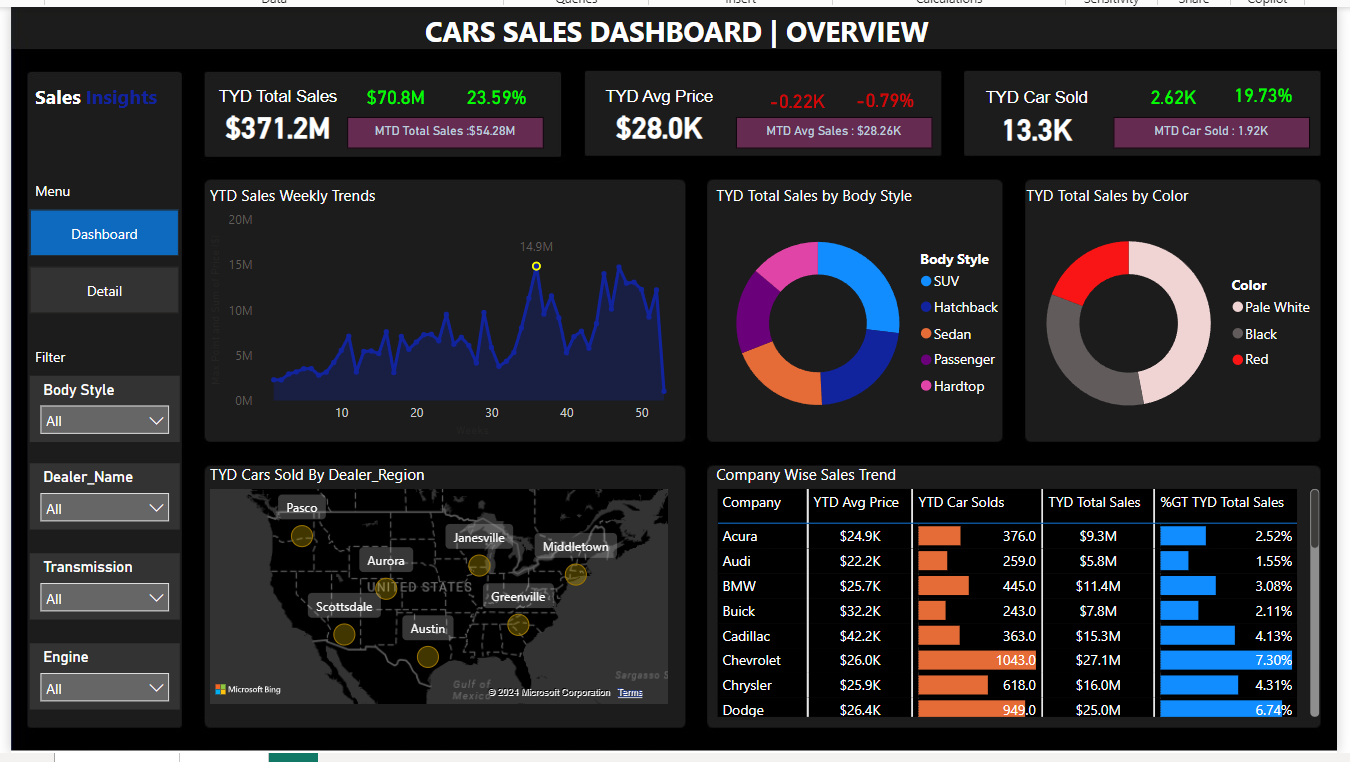

Layout of this report page (visuals, bound fields, positions):
{"tool":"powerbi","page":{"name":"Dashboard","canvas":[1280,720],"ordinal":0},"visuals":[{"type":"card","title":"TYD  Total Sales","fields":{"Values":["car_data.TYD Total Sales"]},"box":[111,77.2,293.2,59.1],"z":0},{"type":"card","fields":{"Values":["car_data.Difference of Sale Over Year"]},"box":[313.7,67.6,115.8,39.8],"z":1000},{"type":"card","fields":{"Values":["car_data.YoY Growth"]},"box":[419.8,67.6,97.7,41],"z":2000},{"type":"card","fields":{"Values":["car_data.MTD KPI"]},"box":[324.5,106.2,189.4,30.2],"z":3000},{"type":"card","title":"TYD  Avg Price","fields":{"Values":["car_data.YTD Avg Price"]},"box":[479,77.2,293.2,59.1],"z":4000},{"type":"card","fields":{"Values":["car_data.Avg Price Diff"]},"box":[699.5,71.8,116.9,39],"z":5000},{"type":"card","fields":{"Values":["car_data.YoY Avg Price Growth"]},"box":[793.8,69.7,98.5,41],"z":6000},{"type":"card","fields":{"Values":["car_data.Avg MTD KPI"]},"box":[699.7,106.2,189.4,30.2],"z":7000},{"type":"card","title":"TYD  Car Sold","fields":{"Values":["car_data.YTD Car Solds"]},"box":[843.3,78.4,293.2,59.1],"z":8000},{"type":"card","fields":{"Values":["car_data.Car Sold Diff"]},"box":[1064.1,67.6,115.8,39.8],"z":9000},{"type":"card","fields":{"Values":["car_data.YoY Car Growth"]},"box":[1159,65.6,98.5,41],"z":10000},{"type":"card","fields":{"Values":["car_data.Car Sold Concatenate Kpi"]},"box":[1064.1,106.2,189.4,30.2],"z":11000},{"type":"areaChart","title":"YTD Sales Weekly Trends","fields":{"Category":["Calender Table.Weeks"],"Y":["car_data.Max Point","Sum(car_data.Price ($))"]},"box":[187,171.3,465.7,248.5],"z":12000},{"type":"donutChart","fields":{"Y":["car_data.TYD Total Sales"],"Category":["car_data.Body Style"]},"box":[675.6,171.3,290.8,248.5],"z":13000},{"type":"donutChart","fields":{"Y":["car_data.TYD Total Sales"],"Category":["car_data.Color"]},"box":[974.8,171.3,293.2,248.5],"z":14000},{"type":"map","title":"TYD Cars Sold By Dealer_Region","fields":{"Category":["car_data.Dealer_Region"]},"box":[187,440.4,452.4,237.7],"z":15000},{"type":"tableEx","title":"Company Wise Sales Trend ","fields":{"Values":["car_data.Company","car_data.YTD Avg Price","car_data.YTD Car Solds","car_data.TYD Total Sales1","car_data.TYD Total Sales"]},"box":[675.6,440.4,592.4,249.7],"z":16000},{"type":"slicer","fields":{"Values":["car_data.Body Style"]},"box":[18.1,355.9,144.8,63.9],"z":17000},{"type":"slicer","fields":{"Values":["car_data.Engine"]},"box":[18.1,614.1,144.8,63.9],"z":18000},{"type":"slicer","fields":{"Values":["car_data.Transmission"]},"box":[18.1,527.2,144.8,63.9],"z":19000},{"type":"slicer","fields":{"Values":["car_data.Dealer_Name"]},"box":[18.1,440.4,144.8,63.9],"z":20000},{"type":"textbox","box":[394.5,0,618.9,45.8],"z":21000},{"type":"pageNavigator","box":[18.1,195.4,144.8,100.1],"z":22000},{"type":"textbox","box":[18.1,68.8,144.8,41],"z":23000},{"type":"textbox","box":[18.1,162.9,144.8,32.6],"z":24000},{"type":"textbox","box":[18.1,323.3,56.7,32.6],"z":25000}]}

Visuals, with their boxes on the page's 1280x720 design canvas (x1, y1, x2, y2). These are canvas units, not pixel positions in the 1350x762 screenshot, which may show the page scaled, cropped or inside an application window:
"TYD  Total Sales" card: <bbox>111, 77, 404, 136</bbox>
card - car_data.Difference of Sale Over Year: <bbox>314, 68, 430, 107</bbox>
card - car_data.YoY Growth: <bbox>420, 68, 518, 109</bbox>
card - car_data.MTD KPI: <bbox>324, 106, 514, 136</bbox>
"TYD  Avg Price" card: <bbox>479, 77, 772, 136</bbox>
card - car_data.Avg Price Diff: <bbox>700, 72, 816, 111</bbox>
card - car_data.YoY Avg Price Growth: <bbox>794, 70, 892, 111</bbox>
card - car_data.Avg MTD KPI: <bbox>700, 106, 889, 136</bbox>
"TYD  Car Sold" card: <bbox>843, 78, 1136, 138</bbox>
card - car_data.Car Sold Diff: <bbox>1064, 68, 1180, 107</bbox>
card - car_data.YoY Car Growth: <bbox>1159, 66, 1258, 107</bbox>
card - car_data.Car Sold Concatenate Kpi: <bbox>1064, 106, 1254, 136</bbox>
"YTD Sales Weekly Trends" areaChart: <bbox>187, 171, 653, 420</bbox>
donutChart - car_data.TYD Total Sales x car_data.Body Style: <bbox>676, 171, 966, 420</bbox>
donutChart - car_data.TYD Total Sales x car_data.Color: <bbox>975, 171, 1268, 420</bbox>
"TYD Cars Sold By Dealer_Region" map: <bbox>187, 440, 639, 678</bbox>
"Company Wise Sales Trend " tableEx: <bbox>676, 440, 1268, 690</bbox>
slicer - car_data.Body Style: <bbox>18, 356, 163, 420</bbox>
slicer - car_data.Engine: <bbox>18, 614, 163, 678</bbox>
slicer - car_data.Transmission: <bbox>18, 527, 163, 591</bbox>
slicer - car_data.Dealer_Name: <bbox>18, 440, 163, 504</bbox>
textbox: <bbox>394, 0, 1013, 46</bbox>
pageNavigator: <bbox>18, 195, 163, 296</bbox>
textbox: <bbox>18, 69, 163, 110</bbox>
textbox: <bbox>18, 163, 163, 196</bbox>
textbox: <bbox>18, 323, 75, 356</bbox>
